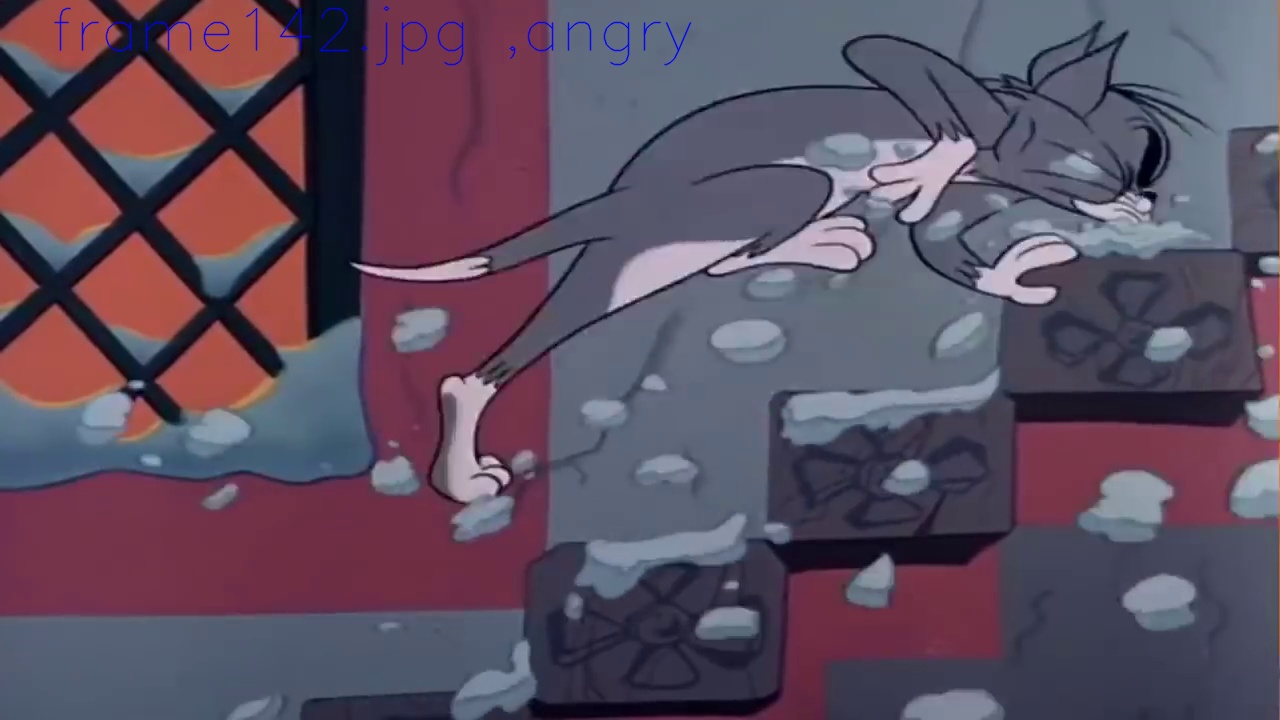angry: (1114, 116, 1161, 227)
